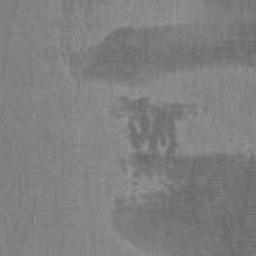Oil spot: (58, 0, 256, 256)
